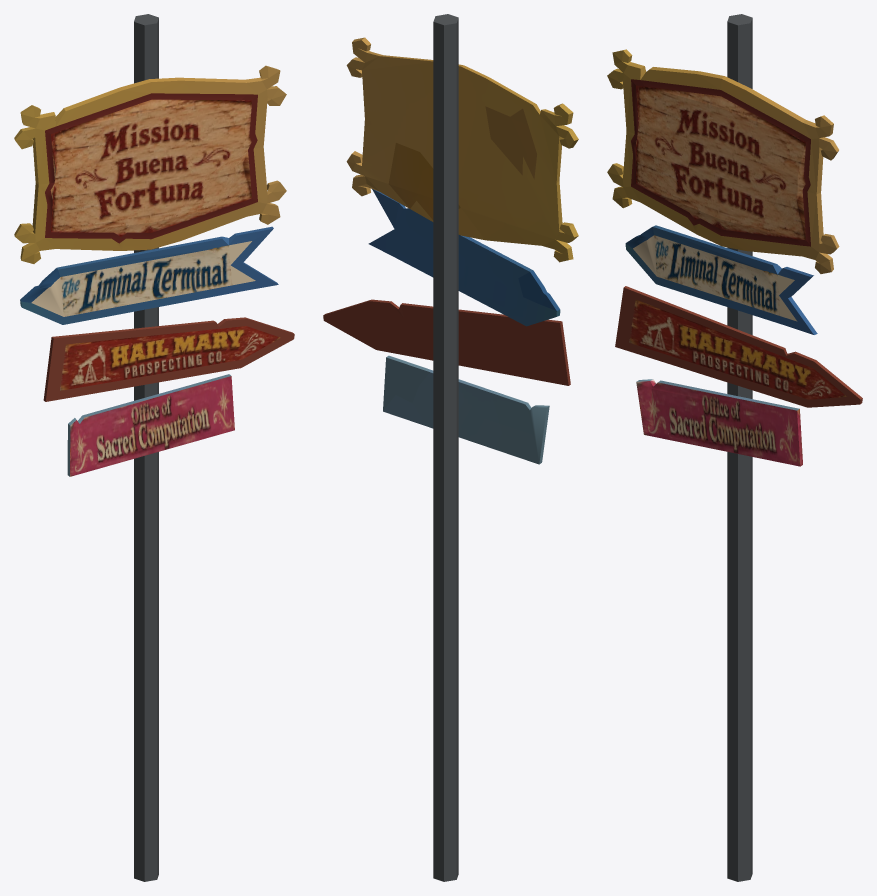
The model's file is mission_sign.glb.
The picture shows the model from 3 angles, left to right: view 1: azimuth 30°, elevation 25°; view 2: azimuth 150°, elevation 25°; view 3: azimuth 330°, elevation 25°; orthographic projection.
Parts seen in each view (by area): view 1: SM_Prop_Sign_01, Sign_1, Sign_2, Sign_Extra; view 2: SM_Prop_Sign_01, Sign_2, Sign_1, Sign_Extra; view 3: SM_Prop_Sign_01, Sign_2, Sign_1, Sign_Extra.
Part boxes in pixels (<box>): SM_Prop_Sign_01: <box>14,14,286,881</box>; Sign_1: <box>20,226,278,324</box>; Sign_2: <box>43,317,294,401</box>; Sign_Extra: <box>67,374,234,476</box>; SM_Prop_Sign_01: <box>346,14,578,881</box>; Sign_2: <box>323,299,570,385</box>; Sign_1: <box>368,189,560,326</box>; Sign_Extra: <box>383,355,549,464</box>; SM_Prop_Sign_01: <box>607,14,839,881</box>; Sign_2: <box>615,286,862,407</box>; Sign_1: <box>625,225,817,334</box>; Sign_Extra: <box>636,379,802,466</box>.
Size of the model in its own units: 1.19 by 3.66 by 0.2852.
1 material, 1 textured.
